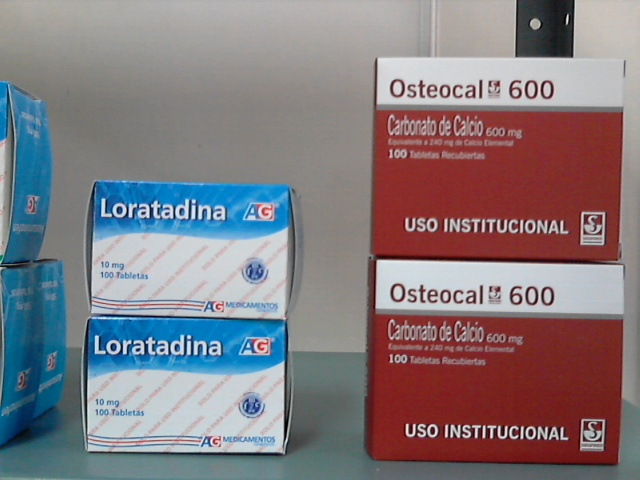AG: (86, 319, 284, 453), (94, 182, 287, 319)
